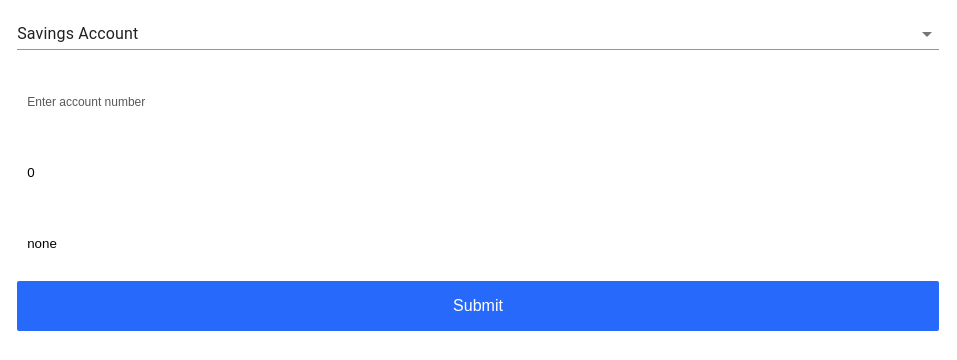
Test: transfer › to_acct_num noexist
The width and height of the screenshot is (957, 360).
Type "0" into the field named "to_acct_num" at {"x": 478, "y": 101}, box 17,81 -> 939,121
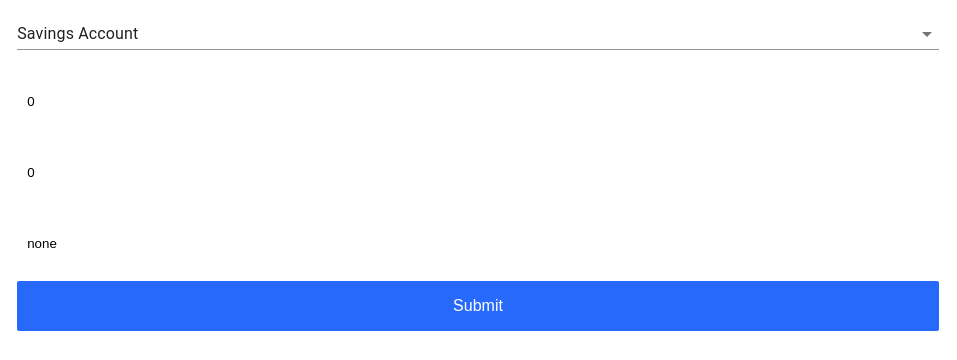
Replace the text in the field named "amount" with "100" at {"x": 478, "y": 172}, box 17,152 -> 939,192
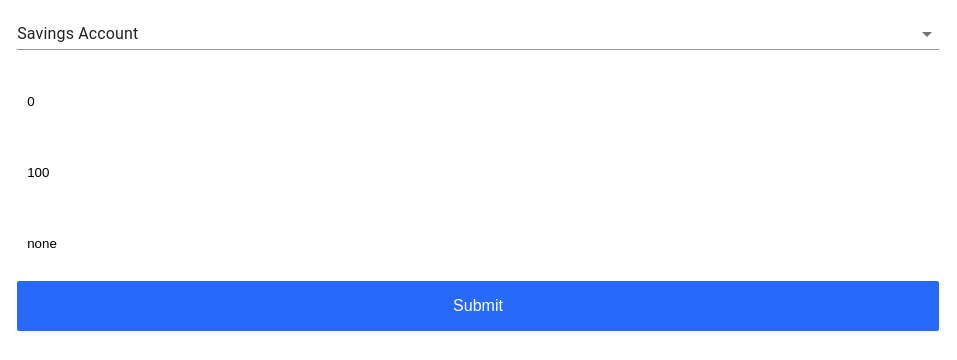
Replace the text in the field named "memo" with "dinner" at {"x": 478, "y": 243}, box 17,223 -> 939,263
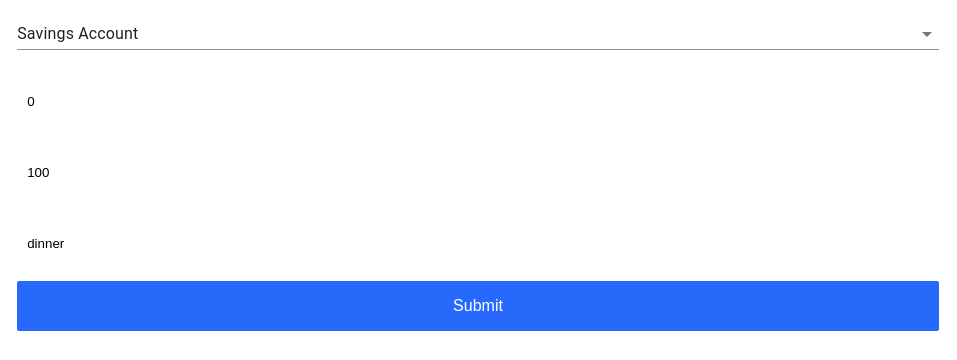
Click the button "Submit" at {"x": 478, "y": 306}, box 17,281 -> 939,331
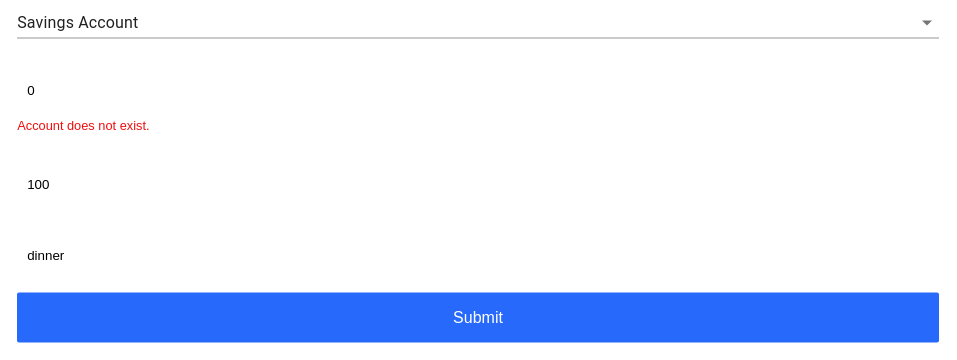
Now the text named "noexist-acct" reads "Account does not exist.", box 17,118 -> 150,132
